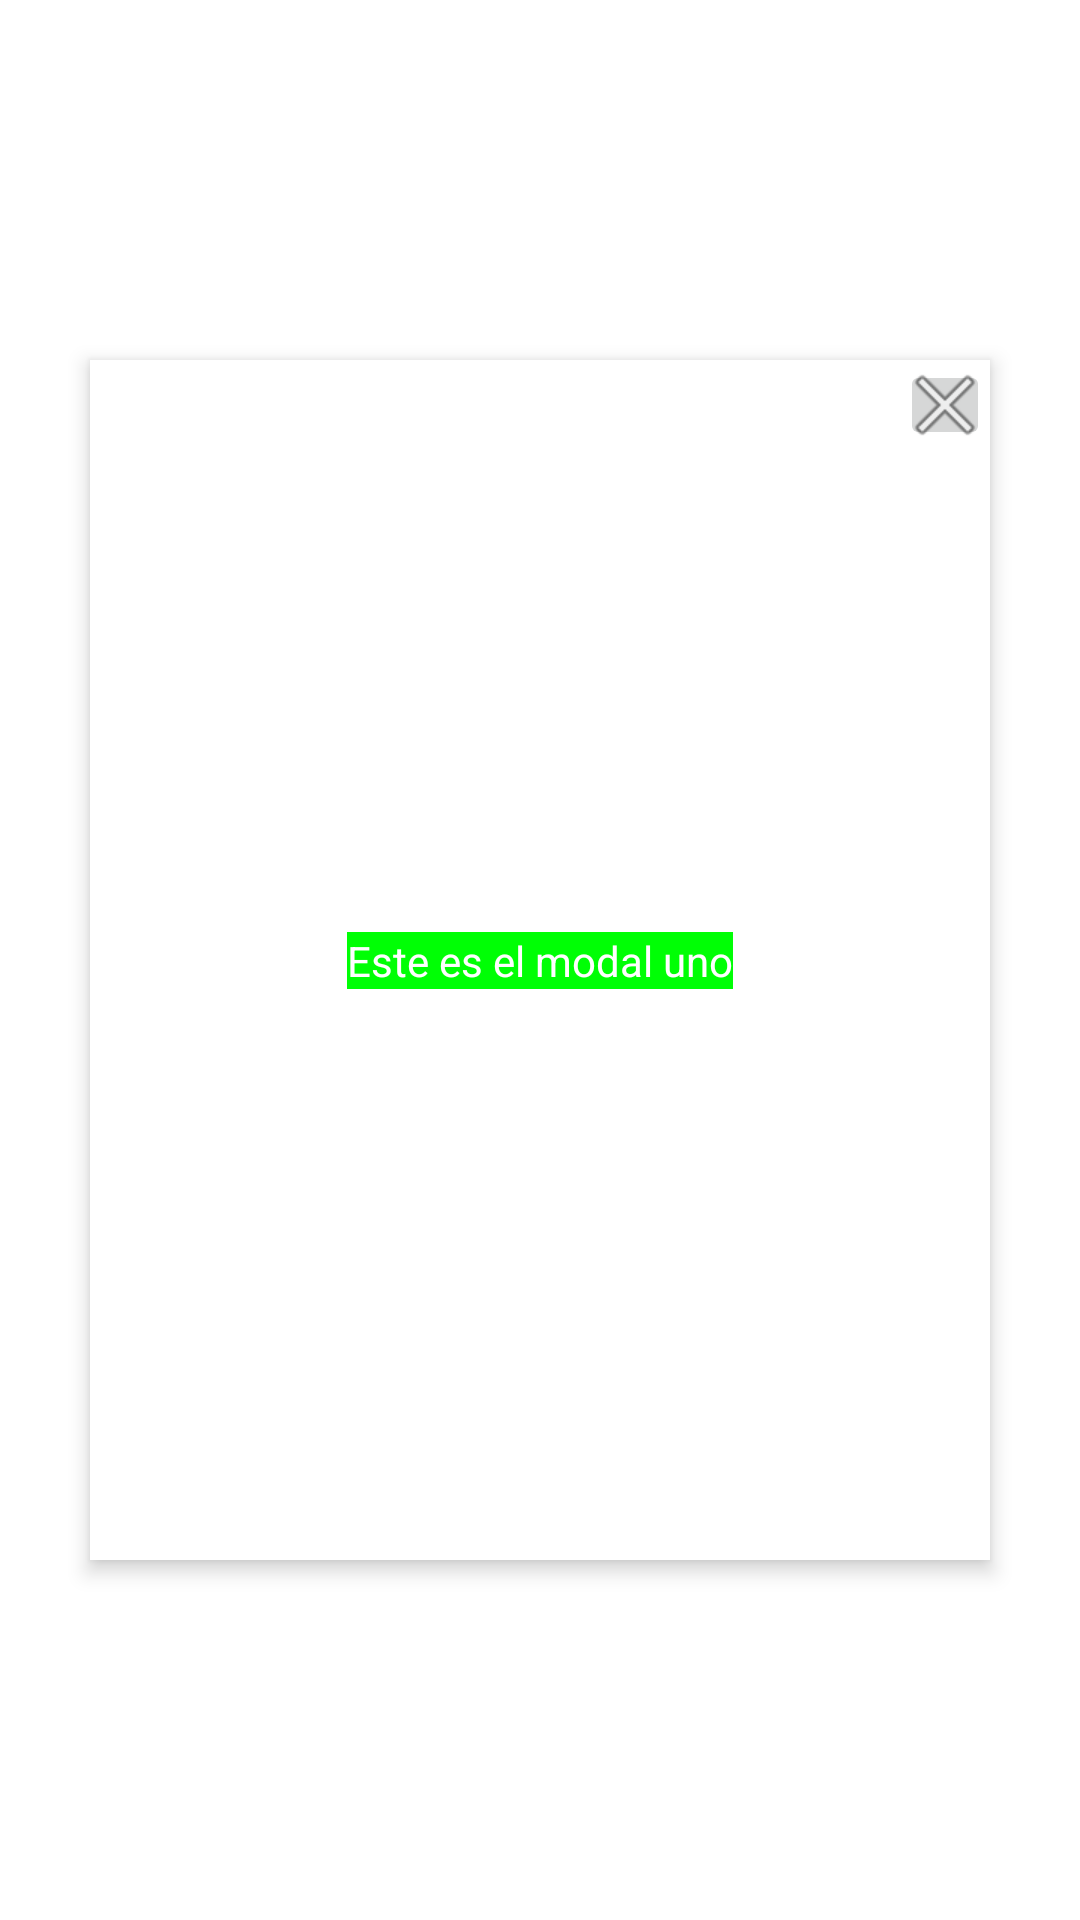

Named icons in this screenshot (1080w x 1920h) and their bounding boxes, detection(x1, y1, x2, y2):
close clear cancel: detection(912, 375, 978, 435)
